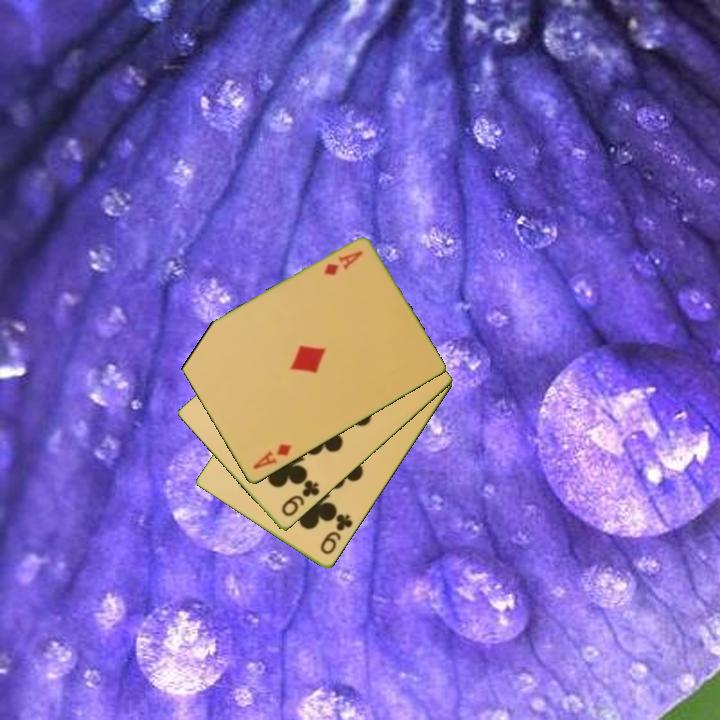9c: (278, 476, 323, 520), (317, 510, 356, 558)
Ad: (249, 440, 294, 473), (320, 248, 366, 279)
